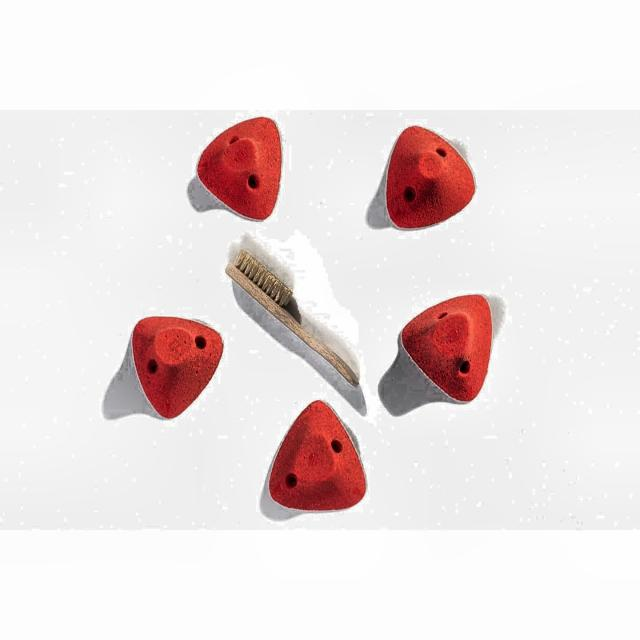Hold: (263, 400, 375, 513), (384, 120, 480, 231), (399, 293, 495, 404), (129, 311, 222, 423), (194, 112, 282, 221)
